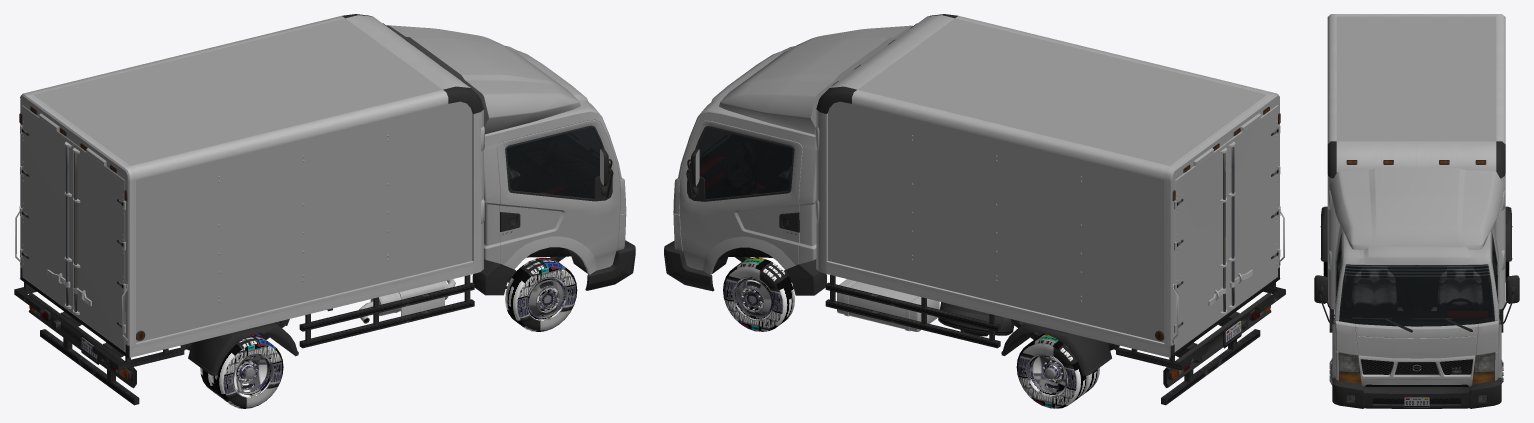
Rendered from truck.gltf.
3 renders of one model, left to right at view 1: azimuth 30°, elevation 25°; view 2: azimuth 150°, elevation 25°; view 3: azimuth 270°, elevation 25°, orthographic. The views are drawn at different scales.
Parts seen in each view (by area): view 1: LCT300007_Body_LCT13_07_Bodymat_0, LCT300007_Bottom_UCB_BOTTOM_0, LCT300007_Reardoor_Left_LCT13_07_Bodymat_0, LCT300007_Reardoor_Right_LCT13_07_Bodymat_0, LCT300007_Glass_Driver_UCB_Lights_and_Glass_Transperent_0, LCT300007_interior_UCB_Interiors_2_0, LCT300007_WheelStock_FR_RB1c_Tire_1k_0, LCT300007_WheelStock_RR_RB1c_Tire_1k_0, LCT300007_Bumper_rear_UCB_BOTTOM_0, LCT300007_BUMPER_FRONT_UCB_BOTTOM_0, LCT300007_Reardoor_Left_Inner_UCB_BOTTOM_0, LCT300007_Reardoor_Right_Inner_UCB_BOTTOM_0; view 2: LCT300007_Body_LCT13_07_Bodymat_0, LCT300007_Bottom_UCB_BOTTOM_0, LCT300007_Reardoor_Right_LCT13_07_Bodymat_0, LCT300007_Reardoor_Left_LCT13_07_Bodymat_0, LCT300007_Glass_Driver_UCB_Lights_and_Glass_Transperent_0, LCT300007_WheelStock_FR_RB1c_Tire_1k_0, LCT300007_WheelStock_RL_RB1c_Tire_1k_0, LCT300007_interior_UCB_Interiors_2_0, LCT300007_Bumper_rear_UCB_BOTTOM_0, LCT300007_BUMPER_FRONT_UCB_BOTTOM_0, LCT300007_Reardoor_Right_Inner_UCB_BOTTOM_0, LCT300007_Reardoor_Left_Inner_UCB_BOTTOM_0 (+1 smaller); view 3: LCT300007_Body_LCT13_07_Bodymat_0, LCT300007_Bottom_UCB_BOTTOM_0, LCT300007_Windshield_UCB_Lights_and_Glass_Transperent_0, LCT300007_interior_UCB_Interiors_2_0, LCT300007_BUMPER_FRONT_UCB_BOTTOM_0, LCT300007_Headlight_Glass_UCB_Lights_and_Glass_Transperent_0, LCT300007_Headlights_UCB_Lights_and_Glass_0, LCT300007_BUMPER_FRONT_INNER_UCB_BOTTOM_0, LCT300007_Taillights_Glass_UCB_Lights_and_Glass_Transperent_, LCT300007_Blinkers_UCB_Lights_and_Glass_0, LCT300007_Numberplate_front_Numberplates_Misk_U_0, LCT300007_Steering_Wheel_UCB_Interiors_2_0.
Part boxes in pixels (left/top/right/bottom): LCT300007_Body_LCT13_07_Bodymat_0: left=20, top=18, right=626, bottom=345; LCT300007_Bottom_UCB_BOTTOM_0: left=14, top=14, right=613, bottom=405; LCT300007_Reardoor_Left_LCT13_07_Bodymat_0: left=22, top=105, right=73, bottom=314; LCT300007_Reardoor_Right_LCT13_07_Bodymat_0: left=73, top=143, right=125, bottom=352; LCT300007_Glass_Driver_UCB_Lights_and_Glass_Transperent_0: left=507, top=128, right=601, bottom=198; LCT300007_interior_UCB_Interiors_2_0: left=508, top=134, right=599, bottom=198; LCT300007_WheelStock_FR_RB1c_Tire_1k_0: left=505, top=257, right=577, bottom=331; LCT300007_WheelStock_RR_RB1c_Tire_1k_0: left=200, top=333, right=283, bottom=408; LCT300007_Bumper_rear_UCB_BOTTOM_0: left=28, top=293, right=136, bottom=388; LCT300007_BUMPER_FRONT_UCB_BOTTOM_0: left=585, top=240, right=635, bottom=290; LCT300007_Reardoor_Left_Inner_UCB_BOTTOM_0: left=21, top=128, right=71, bottom=308; LCT300007_Reardoor_Right_Inner_UCB_BOTTOM_0: left=73, top=147, right=125, bottom=327; LCT300007_Body_LCT13_07_Bodymat_0: left=673, top=18, right=1280, bottom=345; LCT300007_Bottom_UCB_BOTTOM_0: left=686, top=14, right=1285, bottom=405; LCT300007_Reardoor_Right_LCT13_07_Bodymat_0: left=1226, top=105, right=1277, bottom=314; LCT300007_Reardoor_Left_LCT13_07_Bodymat_0: left=1174, top=143, right=1226, bottom=352; LCT300007_Glass_Driver_UCB_Lights_and_Glass_Transperent_0: left=698, top=128, right=792, bottom=199; LCT300007_WheelStock_FR_RB1c_Tire_1k_0: left=723, top=257, right=794, bottom=331; LCT300007_WheelStock_RL_RB1c_Tire_1k_0: left=1016, top=333, right=1099, bottom=408; LCT300007_interior_UCB_Interiors_2_0: left=700, top=135, right=791, bottom=198; LCT300007_Bumper_rear_UCB_BOTTOM_0: left=1163, top=293, right=1271, bottom=387; LCT300007_BUMPER_FRONT_UCB_BOTTOM_0: left=664, top=241, right=714, bottom=291; LCT300007_Reardoor_Right_Inner_UCB_BOTTOM_0: left=1228, top=128, right=1278, bottom=308; LCT300007_Reardoor_Left_Inner_UCB_BOTTOM_0: left=1177, top=147, right=1227, bottom=327; LCT300007_Body_LCT13_07_Bodymat_0: left=1329, top=16, right=1504, bottom=386; LCT300007_Bottom_UCB_BOTTOM_0: left=1314, top=14, right=1519, bottom=386; LCT300007_Windshield_UCB_Lights_and_Glass_Transperent_0: left=1339, top=264, right=1494, bottom=326; LCT300007_interior_UCB_Interiors_2_0: left=1337, top=244, right=1496, bottom=321; LCT300007_BUMPER_FRONT_UCB_BOTTOM_0: left=1332, top=377, right=1501, bottom=408; LCT300007_Headlight_Glass_UCB_Lights_and_Glass_Transperent_0: left=1338, top=352, right=1495, bottom=372; LCT300007_Headlights_UCB_Lights_and_Glass_0: left=1339, top=352, right=1494, bottom=371; LCT300007_BUMPER_FRONT_INNER_UCB_BOTTOM_0: left=1347, top=395, right=1486, bottom=404; LCT300007_Taillights_Glass_UCB_Lights_and_Glass_Transperent_: left=1339, top=371, right=1494, bottom=384; LCT300007_Blinkers_UCB_Lights_and_Glass_0: left=1339, top=372, right=1494, bottom=383; LCT300007_Numberplate_front_Numberplates_Misk_U_0: left=1404, top=397, right=1429, bottom=407; LCT300007_Steering_Wheel_UCB_Interiors_2_0: left=1445, top=298, right=1475, bottom=310.
Bounding box in the file's own units: 5.86 × 2.84 × 2.43.
Materials: 8 (7 with a texture image).
